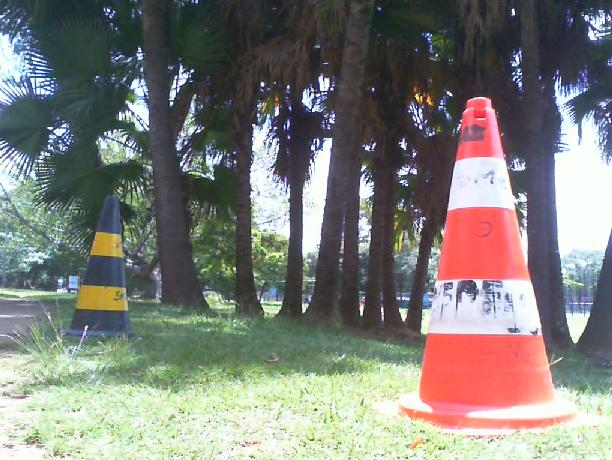0 cone: (372, 98, 610, 437), (58, 194, 144, 340)
